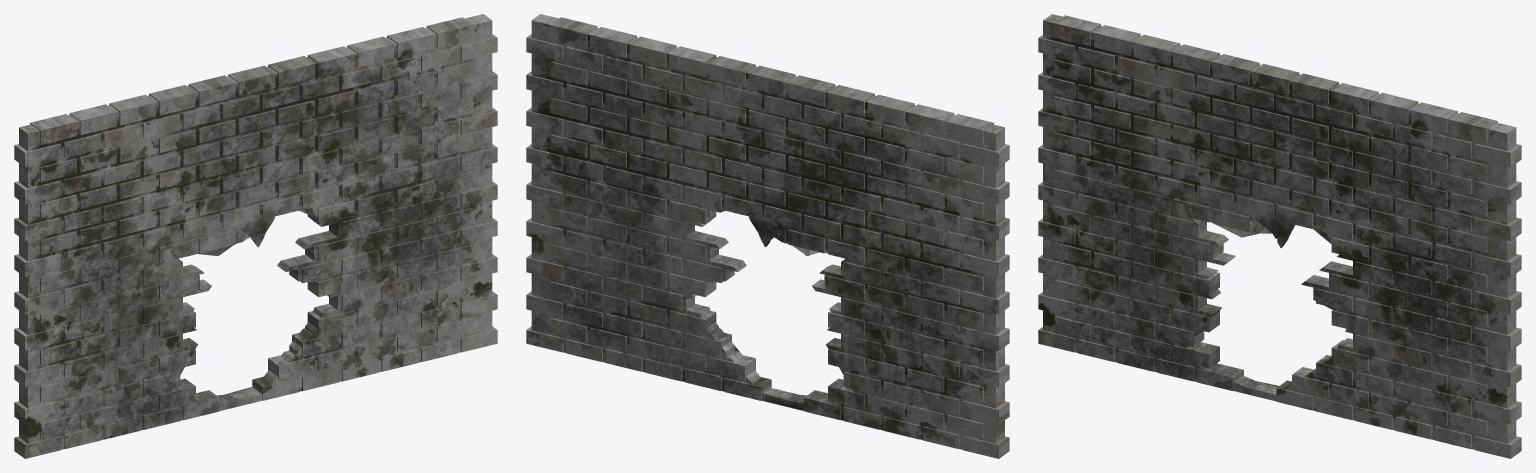
File: brick_wall_broken.glb
The picture shows the model from 3 angles, left to right: view 1: azimuth 30°, elevation 25°; view 2: azimuth 150°, elevation 25°; view 3: azimuth 330°, elevation 25°; orthographic projection.
Parts seen in each view (by area): view 1: Cube; view 2: Cube; view 3: Cube.
Boxes of the visible parts, box(x1,y1,x2,y2) form: Cube: box(14, 14, 497, 458); Cube: box(526, 14, 1009, 458); Cube: box(1038, 14, 1521, 458).
Bounding box in the file's own units: 2 × 1.31 × 0.0786.
1 material, 1 textured.
